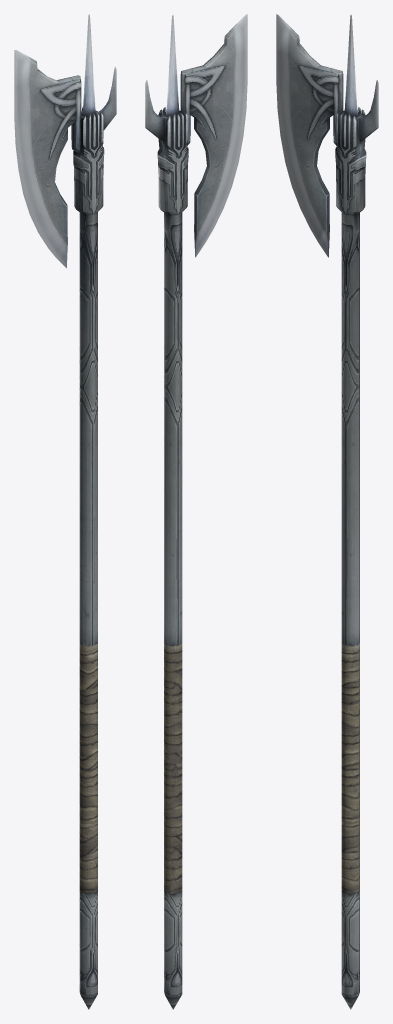
The model's file is halberd.FBX.
The picture shows the model from 3 angles, left to right: view 1: azimuth 30°, elevation 25°; view 2: azimuth 210°, elevation 25°; view 3: azimuth 330°, elevation 25°; orthographic projection.
Parts seen in each view (by area): view 1: halberd; view 2: halberd; view 3: halberd.
Boxes of the visible parts, box(x1,y1,x2,y2) form: halberd: box(14, 14, 116, 1009); halberd: box(145, 14, 247, 1009); halberd: box(276, 14, 378, 1009).
Size of what is drawn, in the model's own units: 14.85 by 138 by 3.03.
